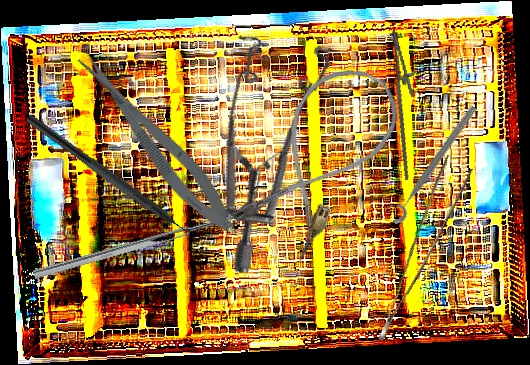Cannula: (225, 50, 413, 265)
Chopper: (17, 113, 205, 255)
Fixation Ring: (380, 98, 481, 227)
Micro Scissor: (70, 41, 244, 242)
Needle Holder: (373, 26, 439, 181)
Spatula Surgical: (30, 200, 250, 279)
Speculum: (170, 9, 388, 279)
Tissue Forceps: (347, 154, 483, 342)
